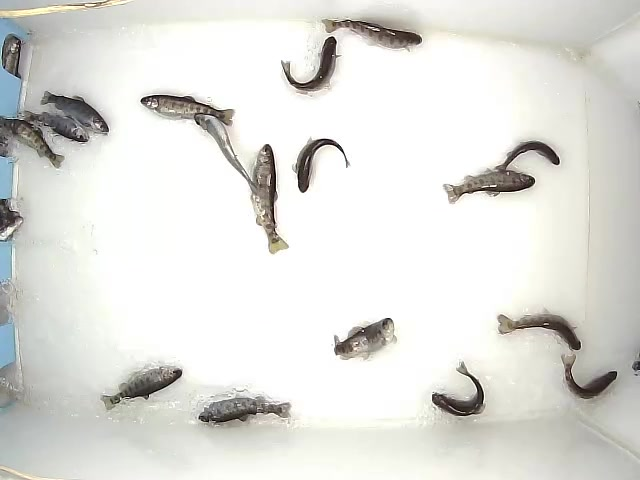fish: (194, 113, 258, 195), (251, 144, 289, 255), (99, 365, 182, 411), (497, 307, 581, 352), (440, 168, 535, 205), (281, 35, 342, 92), (321, 18, 422, 52), (292, 136, 351, 194), (1, 118, 65, 169), (140, 95, 236, 127), (432, 360, 486, 416), (40, 91, 109, 134), (333, 317, 397, 361), (561, 354, 617, 399), (197, 397, 291, 422), (493, 140, 560, 173), (23, 110, 90, 143)
